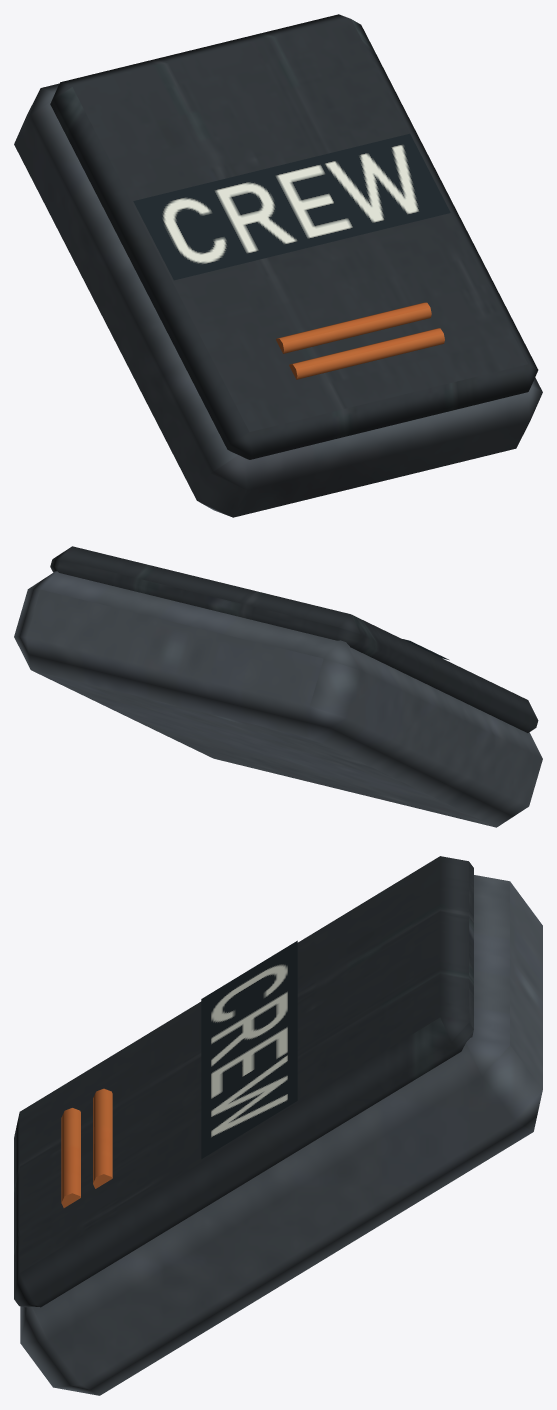
File: prop_key_comms.fbx
The picture shows the model from 3 angles, top to bottom: view 1: azimuth 30°, elevation 25°; view 2: azimuth 150°, elevation 25°; view 3: azimuth 270°, elevation 25°; orthographic projection. The views are drawn at different scales.
Visible parts, largest first — view 1: SM_prop_key_comms; view 2: SM_prop_key_comms; view 3: SM_prop_key_comms.
Boxes of the visible parts, x1,y1,x2,y2 form: SM_prop_key_comms: (14, 14, 542, 517); SM_prop_key_comms: (14, 546, 542, 827); SM_prop_key_comms: (14, 856, 542, 1395).
Bounding box in the file's own units: 0.054 × 0.0494 × 0.0628.
4 materials, 4 textured.
